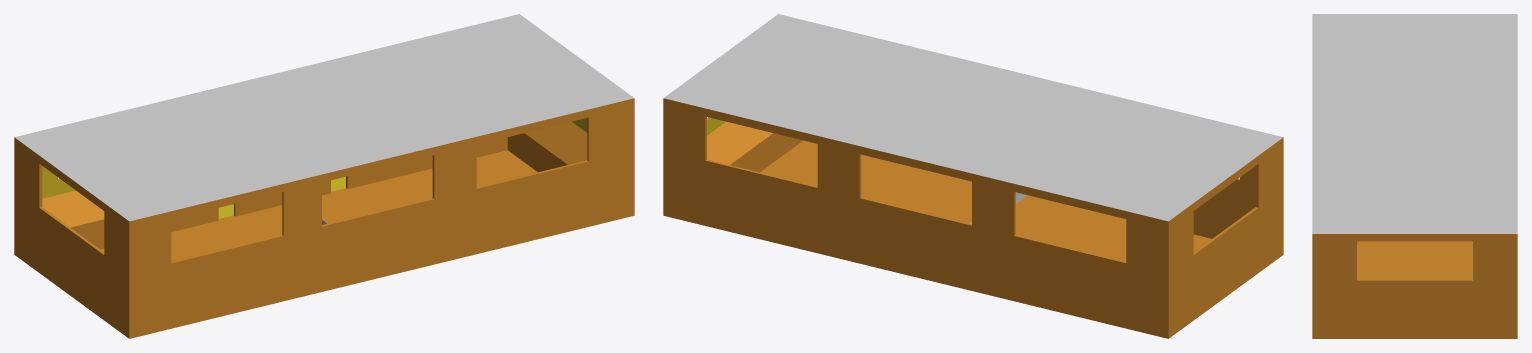
The model's file is Salle_V2.1.fbx.
3 views of the same model, side by side, from view 1: azimuth 30°, elevation 25°; view 2: azimuth 150°, elevation 25°; view 3: azimuth 270°, elevation 25° (orthographic). The views are drawn at different scales.
Parts seen in each view (by area): view 1: Roof, Wall_Right-Outside, Wall_Back-Outside, Ground_Court, Wall_Left-Bottom, Gallery_Front-Up, Embrasures, Gallery_Left-Up, Wall_Front-Bottom, Wall_Left-Top; view 2: Roof, Wall_Left-Outside, Ground_Court, Wall_Back-Outside, Wall_Right, Gallery_Front-Up, Embrasures, Wall_Front-Bottom; view 3: Roof, Wall_Front-Outside, Ground_Court, Embrasures.
Part boxes in pixels (box(x1,y1,x2,y2)): Roof: box(14, 14, 634, 221); Wall_Right-Outside: box(129, 98, 634, 338); Wall_Back-Outside: box(14, 137, 129, 338); Ground_Court: box(100, 150, 537, 261); Wall_Left-Bottom: box(70, 137, 507, 249); Gallery_Front-Up: box(525, 121, 587, 164); Embrasures: box(39, 117, 588, 263); Gallery_Left-Up: box(42, 190, 104, 227); Wall_Front-Bottom: box(507, 133, 567, 172); Wall_Left-Top: box(42, 166, 75, 198); Roof: box(663, 14, 1283, 221); Wall_Left-Outside: box(663, 98, 1168, 338); Ground_Court: box(760, 140, 1211, 261); Wall_Back-Outside: box(1168, 137, 1283, 338); Wall_Right: box(1193, 166, 1255, 238); Gallery_Front-Up: box(707, 121, 772, 164); Embrasures: box(705, 116, 1258, 262); Wall_Front-Bottom: box(730, 133, 803, 172); Roof: box(1312, 14, 1517, 233); Wall_Front-Outside: box(1312, 234, 1517, 338); Ground_Court: box(1357, 241, 1472, 279); Embrasures: box(1357, 279, 1472, 280).
Bounding box in the file's own units: 36 × 8 × 14.2.
